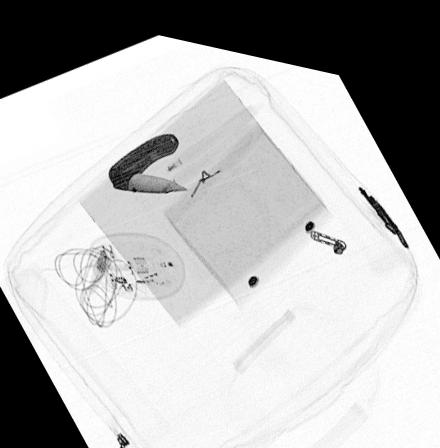Knife: (104, 122, 190, 187)
